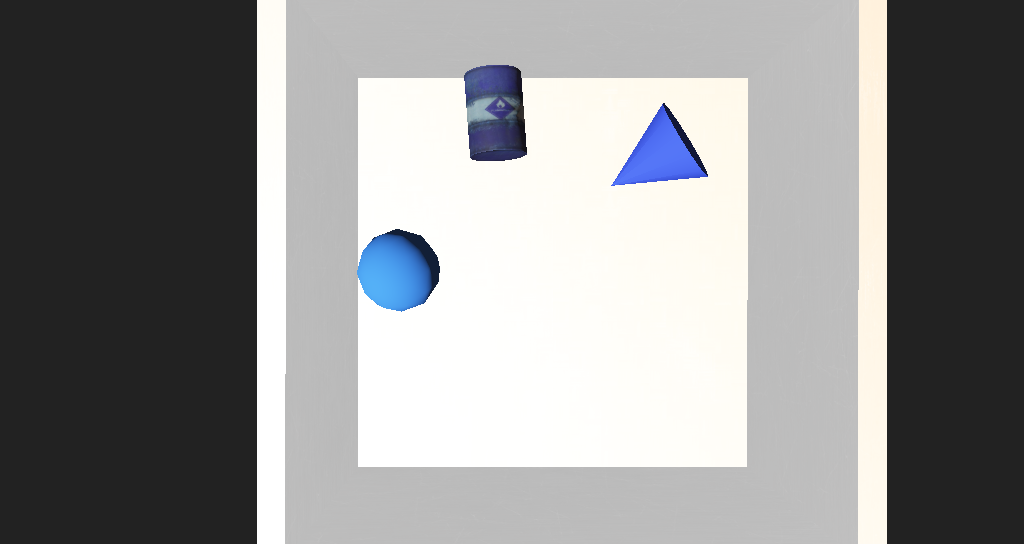cone: (431, 155, 485, 208)
cylinder: (525, 174, 633, 246)
sphere: (360, 243, 421, 291)
